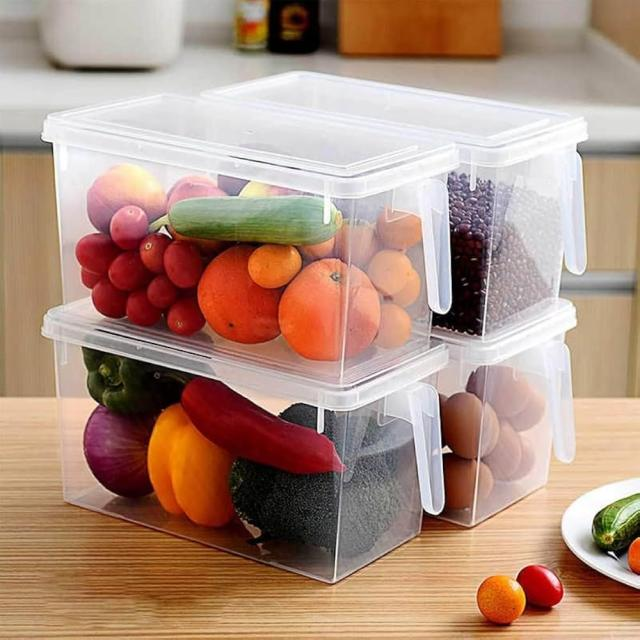plastic_box: (4, 44, 612, 639)
